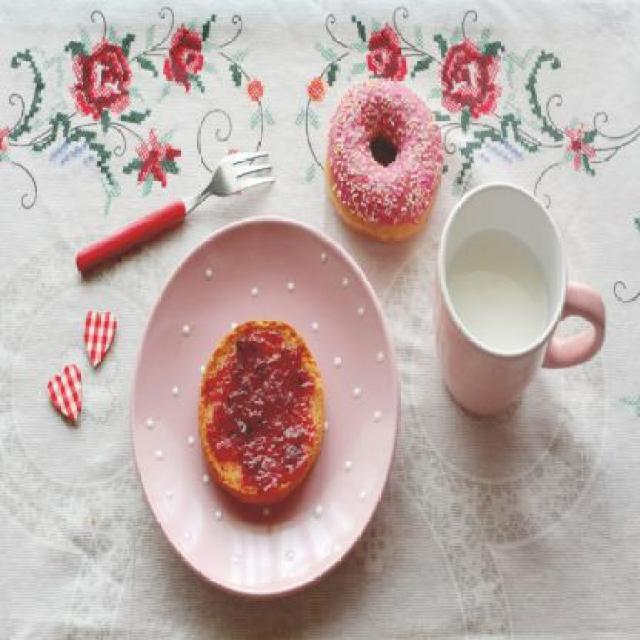Bagel: (328, 70, 444, 239)
